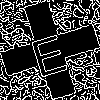E: (25, 25, 71, 78)
